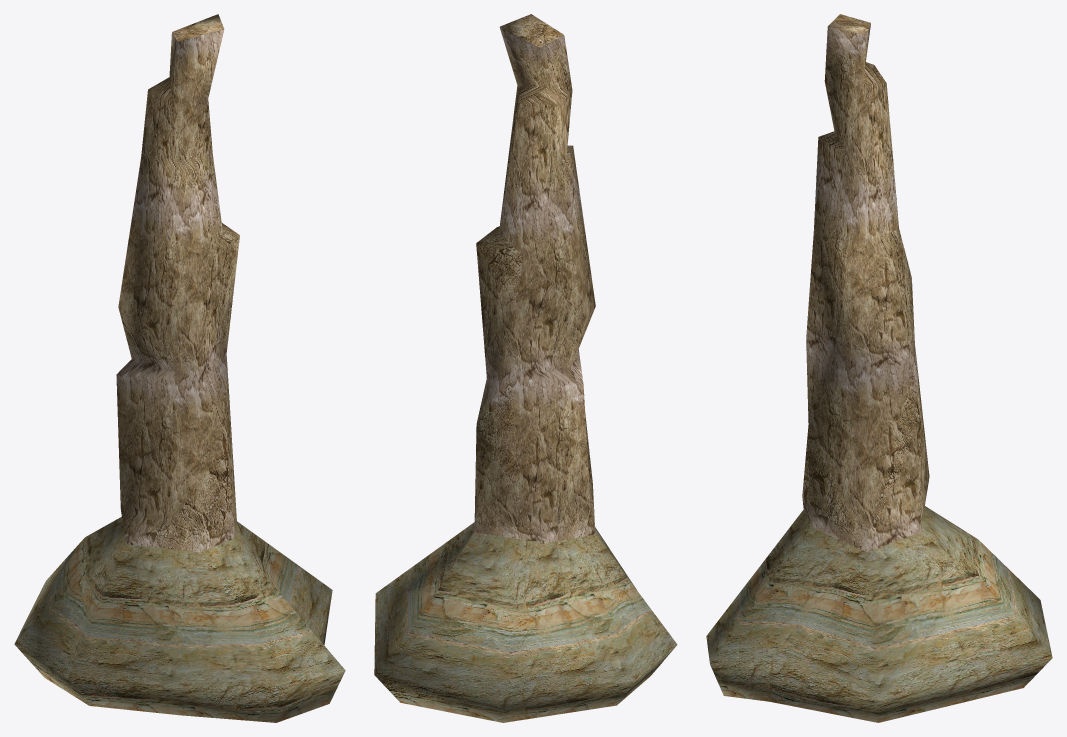
The model's file is dsrt_endr_column_a1_l2.fbx.
3 views of the same model, side by side, from view 1: azimuth 30°, elevation 25°; view 2: azimuth 150°, elevation 25°; view 3: azimuth 270°, elevation 25° (orthographic). The views are drawn at different scales.
Visible parts, largest first — view 1: mesh_node; view 2: mesh_node; view 3: mesh_node.
Part boxes in pixels (x1,y1,x2,y2): mesh_node: (14,14,345,722); mesh_node: (374,14,677,722); mesh_node: (706,14,1052,722).
Size of the model in its own units: 11.26 by 24.79 by 11.57.
Materials: 2 (2 with a texture image).
